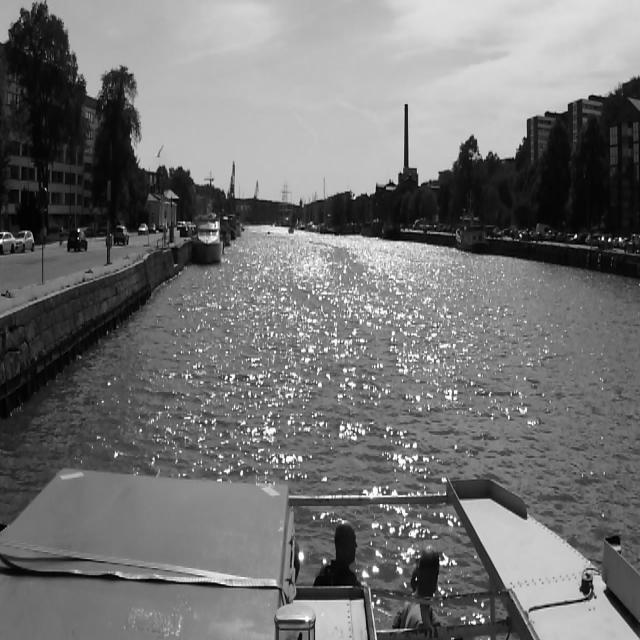ship: (455, 214, 489, 256), (194, 223, 222, 264)
